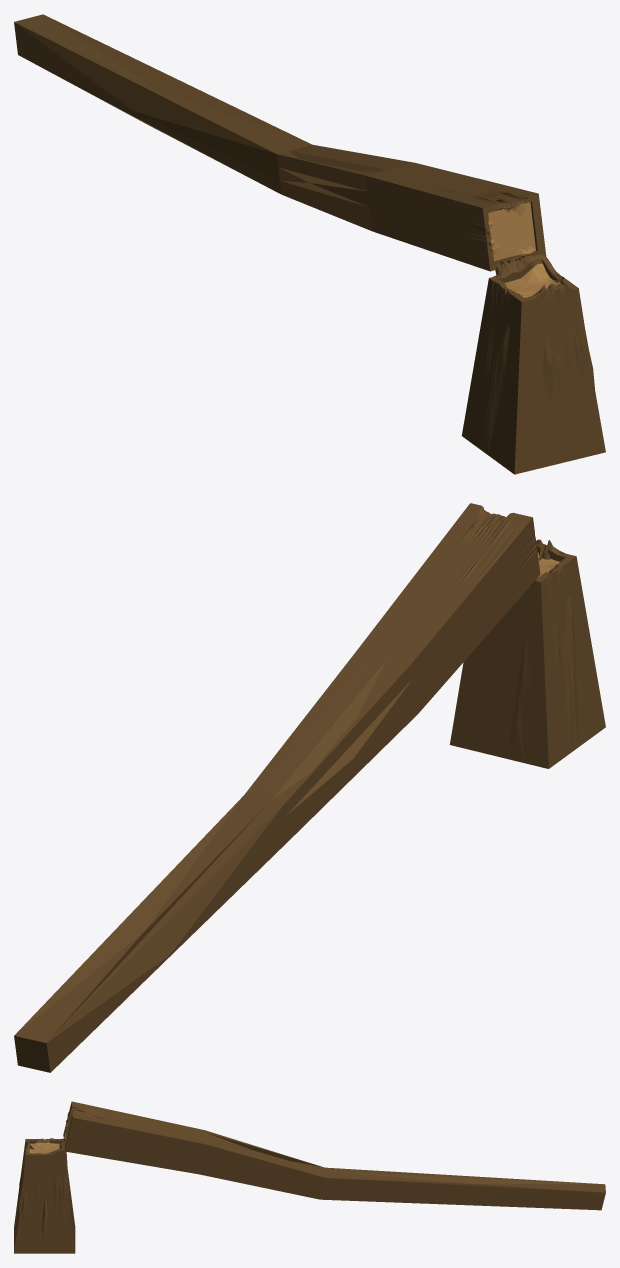
Rendered from FallenTree.fbx.
The picture shows the model from 3 angles, top to bottom: view 1: azimuth 30°, elevation 25°; view 2: azimuth 150°, elevation 25°; view 3: azimuth 270°, elevation 25°; orthographic projection. The views are drawn at different scales.
Parts seen in each view (by area): view 1: FallenTree; view 2: FallenTree; view 3: FallenTree.
Boxes of the visible parts, <box> form: FallenTree: <box>14,14,605,474</box>; FallenTree: <box>14,503,605,1072</box>; FallenTree: <box>14,1101,605,1253</box>.
Bounding box in the file's own units: 74.78 × 177 × 721.
